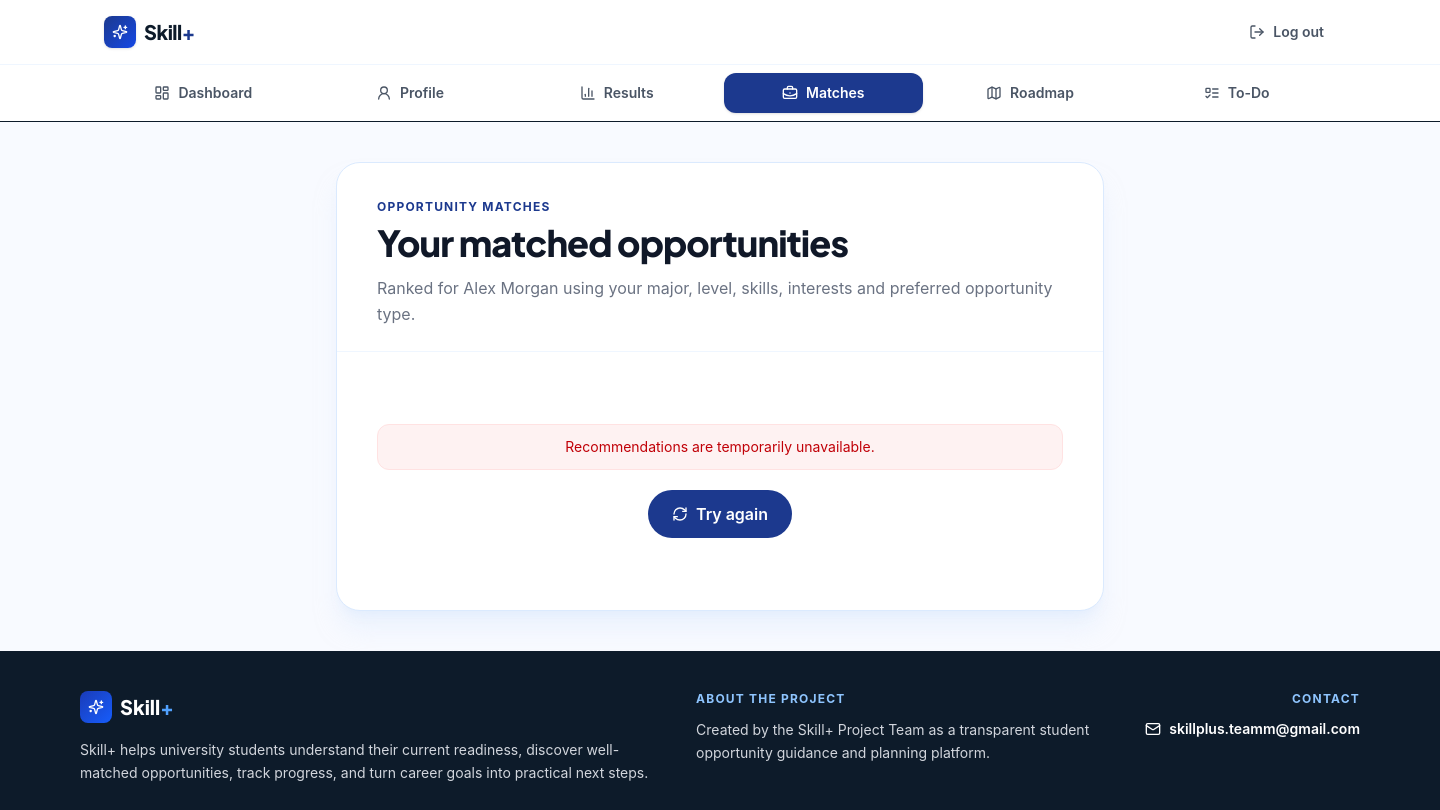
Test: Member 5 complete student flow › shows a recommendation error and retries successfully
Expected: the message reads "Recommendations are temporarily unavailable.", 565,438 -> 875,455
Click the button "Try again" at {"x": 720, "y": 514}, box 648,490 -> 792,538
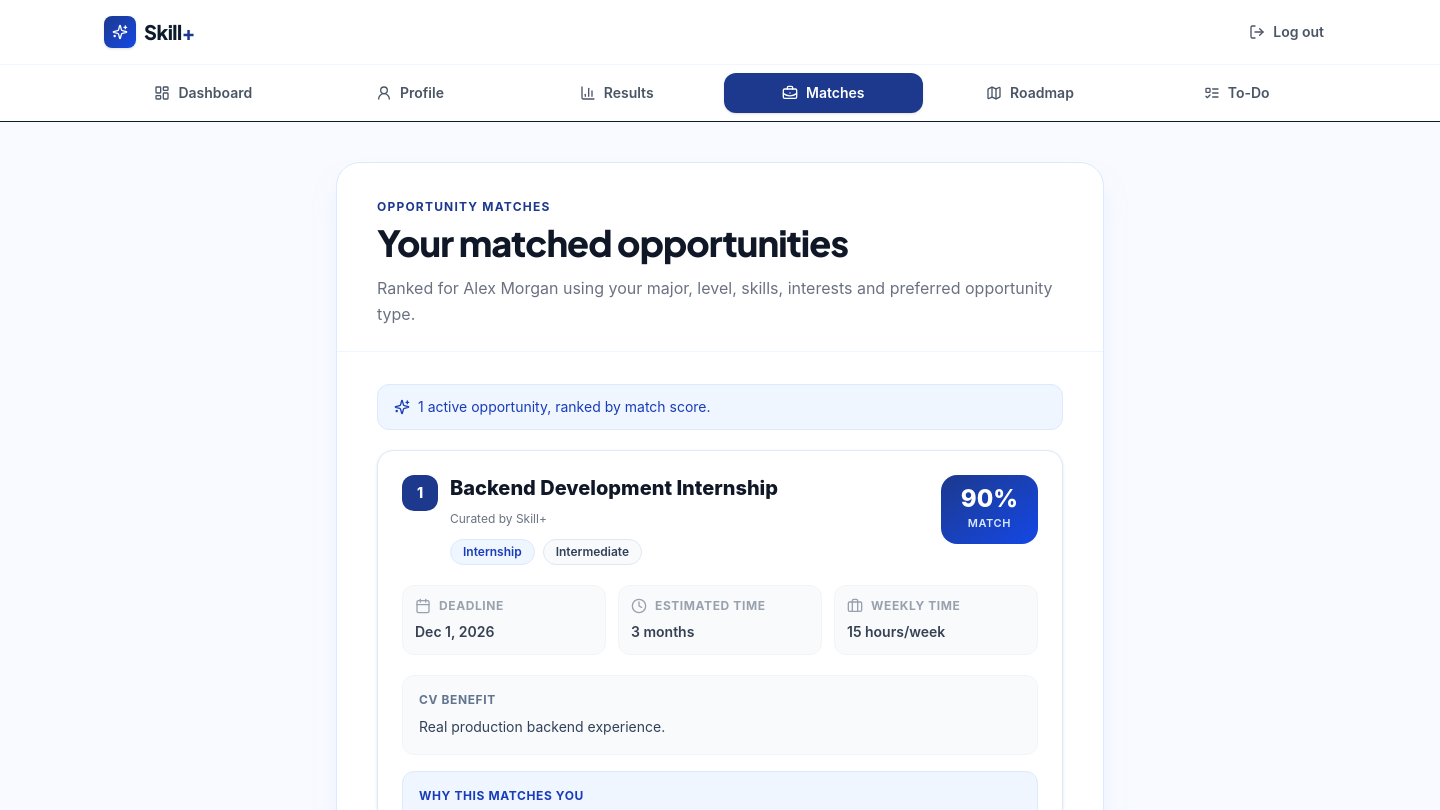
Expected: the heading "Backend Development Internship" is shown, 450,475 -> 778,502
